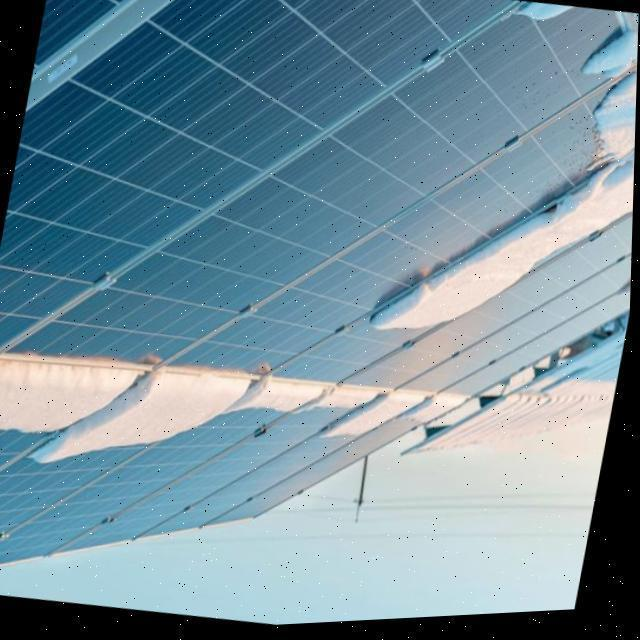Anomaly Solar Panel: (0, 8, 638, 372), (162, 76, 638, 379), (270, 166, 636, 388), (0, 381, 335, 566), (56, 391, 389, 556), (344, 223, 634, 402), (0, 373, 261, 538), (138, 398, 432, 541), (204, 402, 469, 530), (0, 360, 147, 471)
Normal Solar Panel: (0, 0, 517, 350)
Snow: (379, 77, 638, 331), (37, 369, 247, 463), (0, 363, 147, 441), (308, 389, 480, 446), (574, 27, 638, 97), (232, 376, 334, 416), (505, 7, 580, 37), (612, 287, 633, 310)
